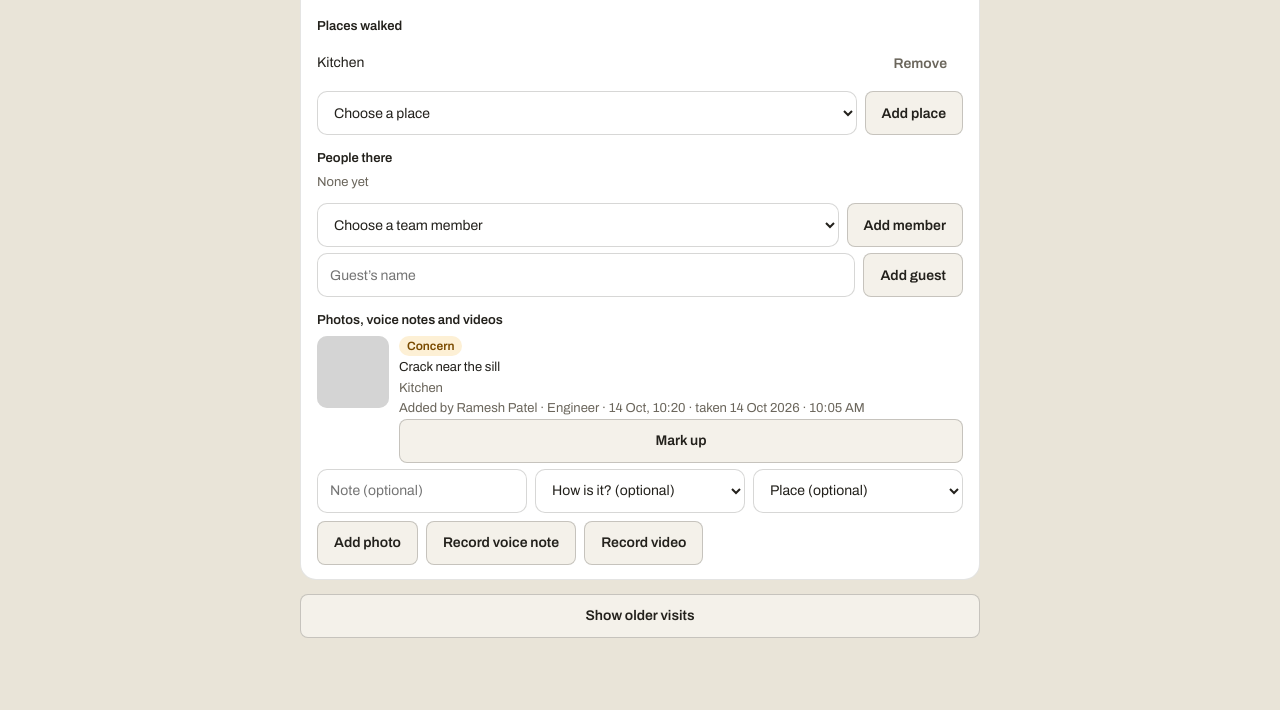
Test: Site Visits M3: Mark up on a visit’s photos › a visit shown from beyond the pages read (Codex 4327055870) › renews its link by reading the older pages on from the page cursor, and opens it
(page scrolled)
Expected: the list item with test id "sv-file-m-1" is shown, [317, 336, 963, 463]
Step 1. Click the button "Mark up" → x=681, y=441, box [399, 419, 963, 463]
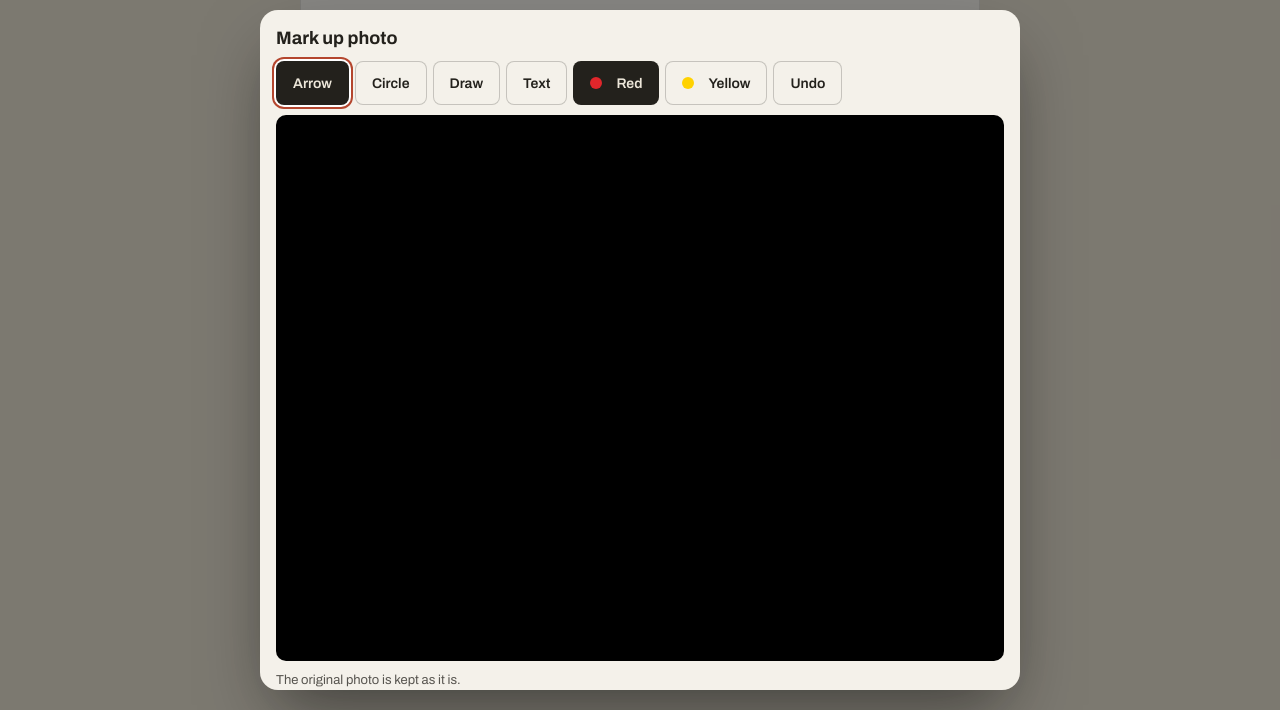
Now the drawing with test id "photo-markup-canvas" is shown, box [276, 115, 1004, 661]
